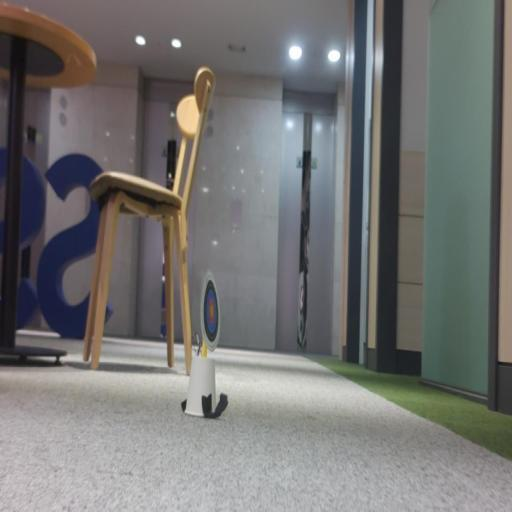target: (200, 270, 220, 351)
